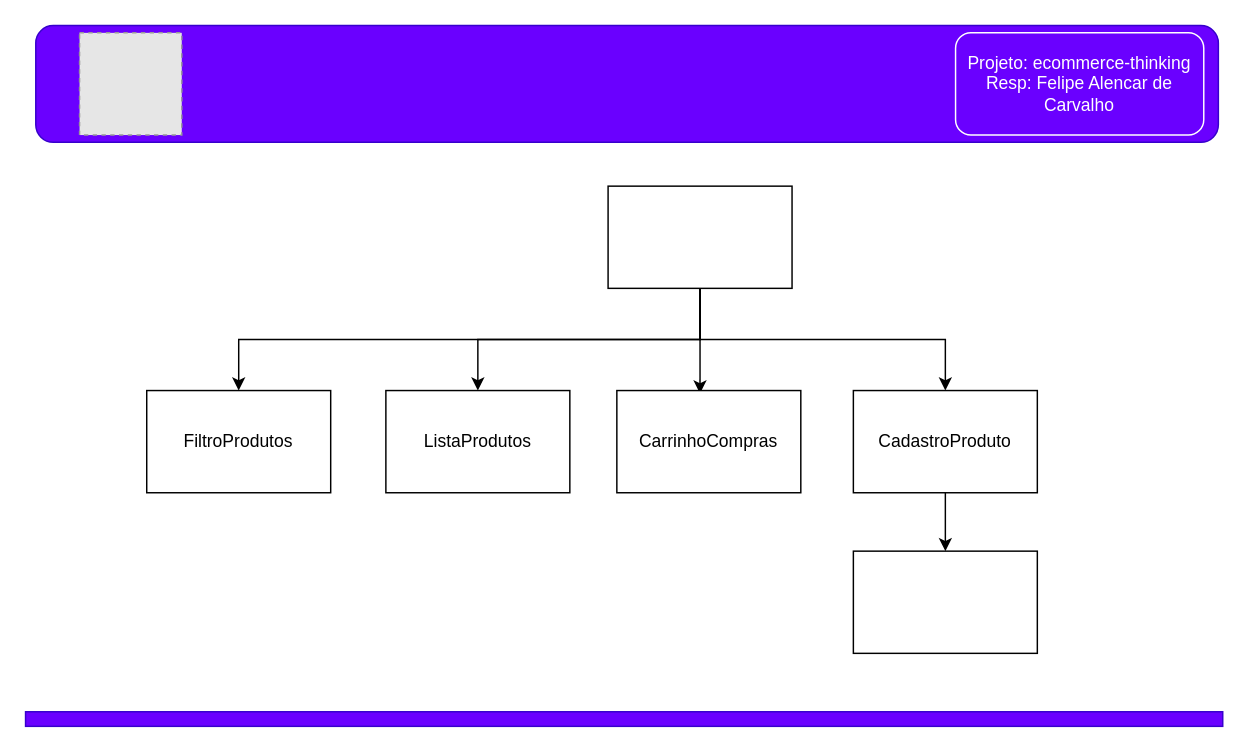
Image size: 1248x752. Some labels were removed from this diagram. Grey dashed boxes stand in for pictures. Here are the shapes that lost their labels. From the top down, the box of each, then its label:
(607, 185, 792, 288): App: ecommerce-react
(852, 550, 1037, 653): Produto
